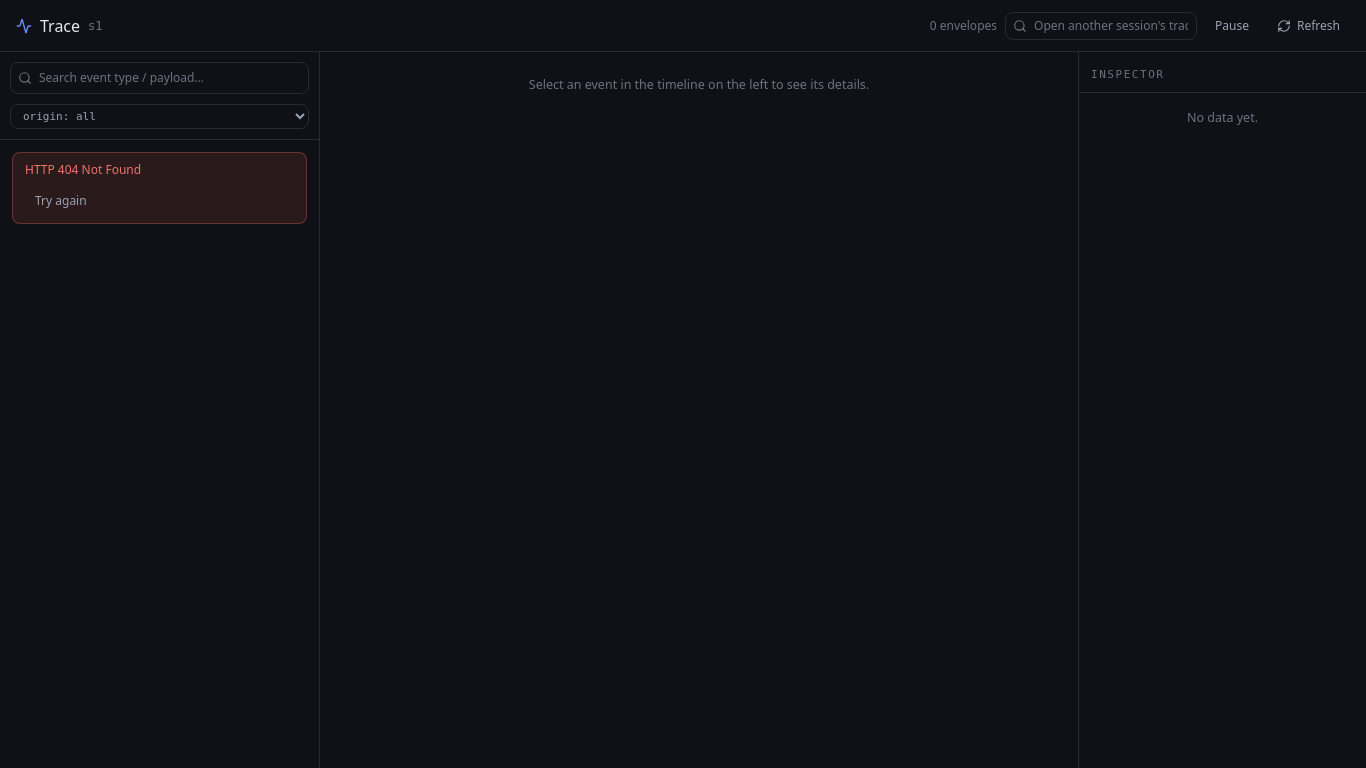
Scenario: the trace page › surfaces a failure and retries on demand instead of polling into the void
Expected: the text "HTTP 404 Not Found" is shown, 25,161 -> 141,178
Click the button "Try again" at coordinates (61, 201), box 25,187 -> 97,215
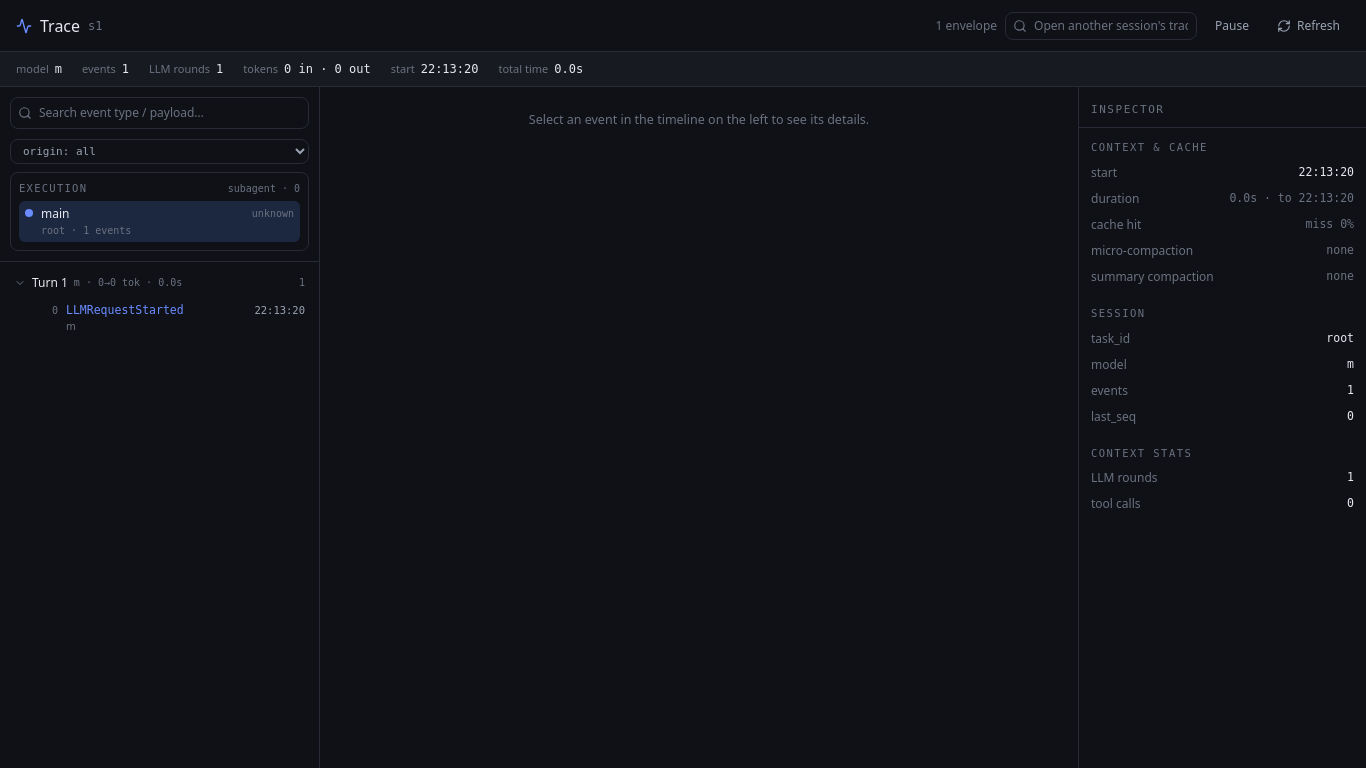
Expected: the text "Turn 1" is shown, 32,274 -> 68,292
Expected: the text "HTTP 404 Not Found" is gone
